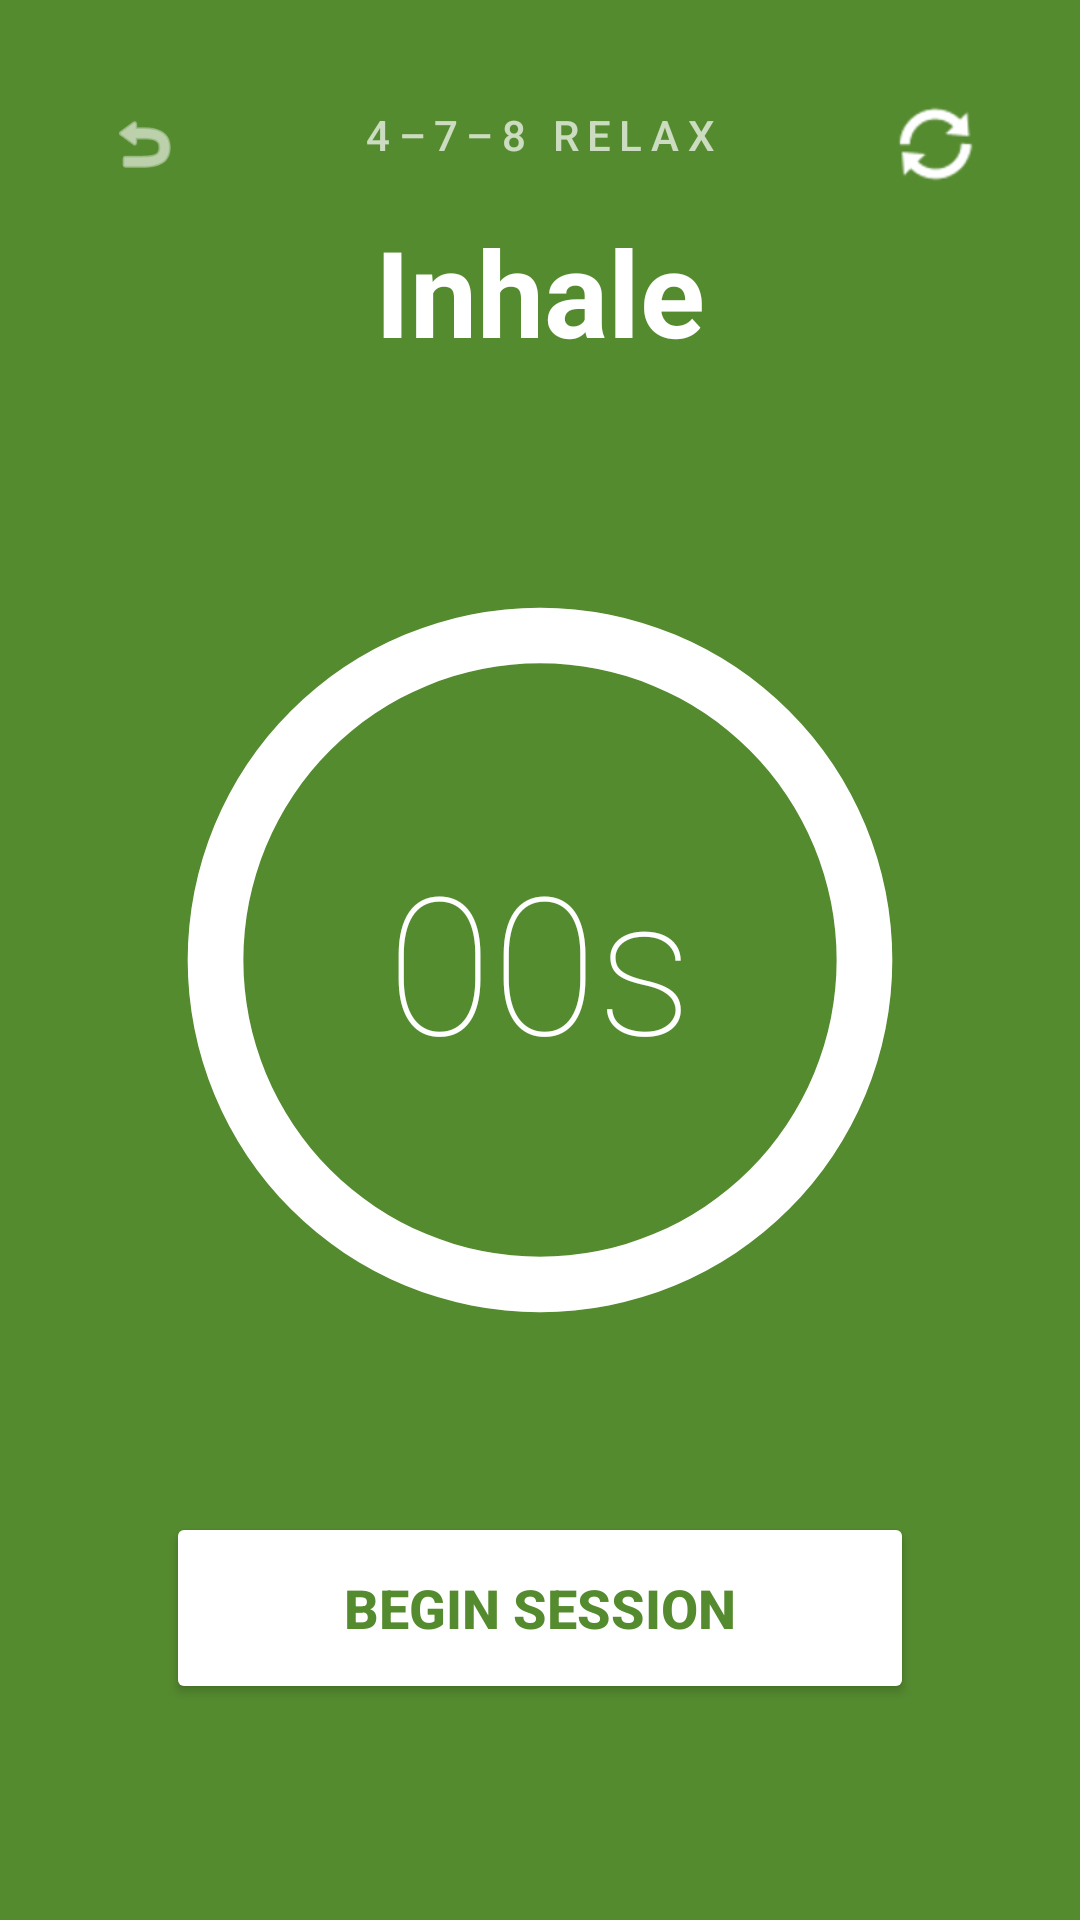

Screen size 1080px x 1920px. Icon name, then its box in pixels as (x1=x1, y1=y1, x2=x2, y2=y2):
revert: (x1=119, y1=121, x2=171, y2=168)
